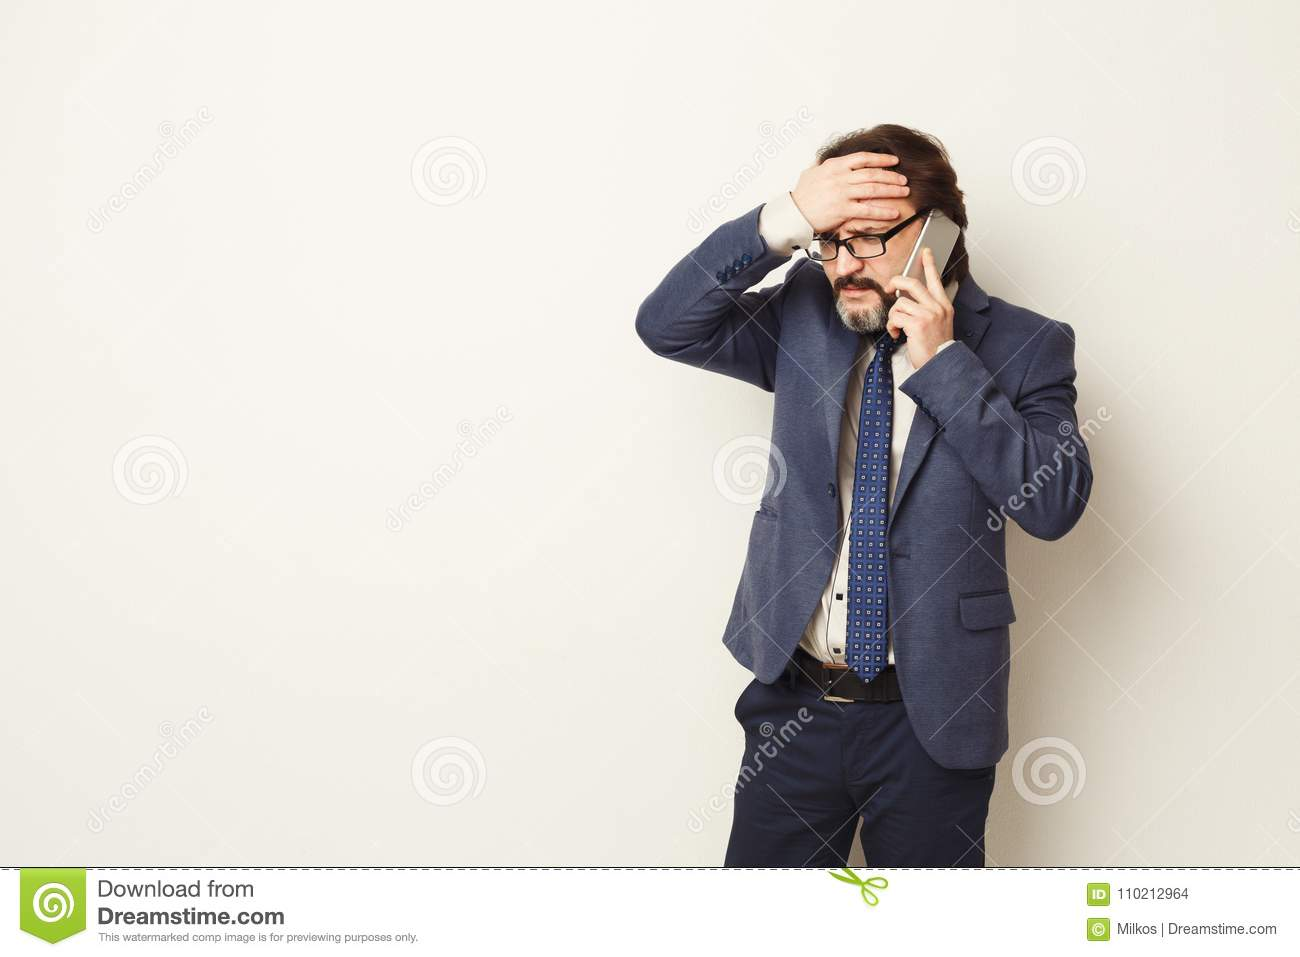phone: (894, 211, 960, 308)
talk: (818, 209, 959, 370)
